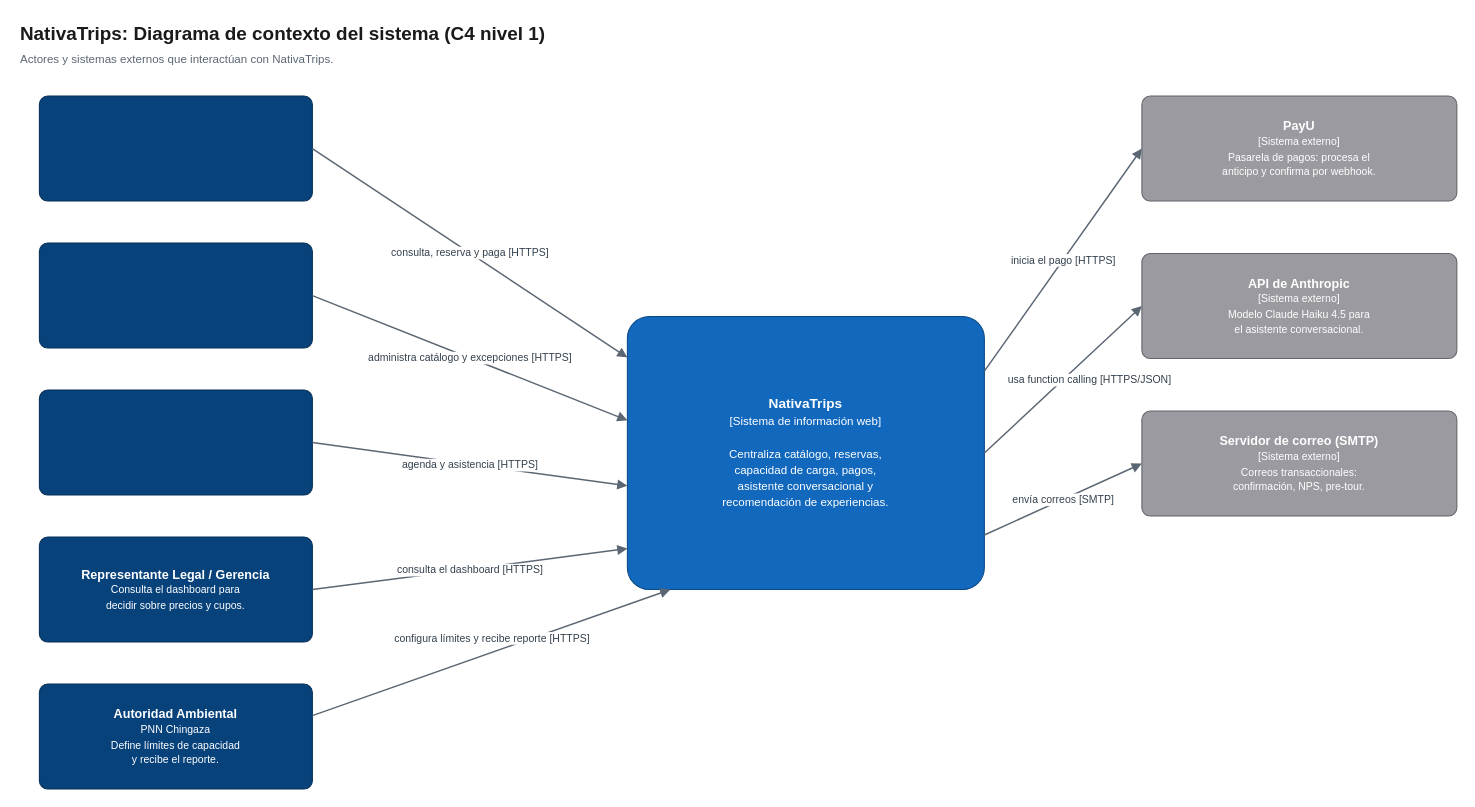
This 1475x807 diagram has some shape labels left out. The shapes that lost their labels are listed below. From the top down, each one's centre as x and y in pixels, then its label:
(x=175, y=148): Turista / Visitante Consulta senderos, reserva, paga y usa el asistente.
(x=175, y=295): Personal Administrativo Gestiona el catálogo, revisa excepciones y capacidad.
(x=175, y=442): Guía Turístico Certificado Consulta su agenda y registra la asistencia.
